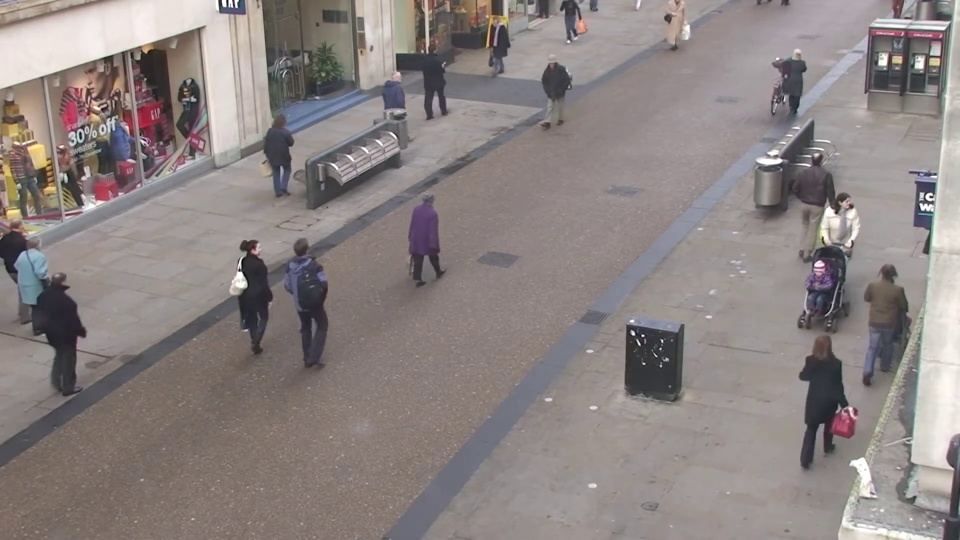pedestrian: (800, 317, 856, 467), (48, 260, 108, 392), (20, 226, 79, 349), (1, 211, 61, 330), (860, 249, 914, 381), (788, 255, 838, 388), (240, 229, 288, 353), (292, 229, 338, 354), (815, 189, 860, 305), (419, 181, 458, 295), (799, 147, 839, 252), (271, 110, 306, 203), (780, 44, 811, 122), (389, 67, 418, 149), (535, 55, 562, 134), (423, 41, 450, 116), (484, 15, 508, 83)
